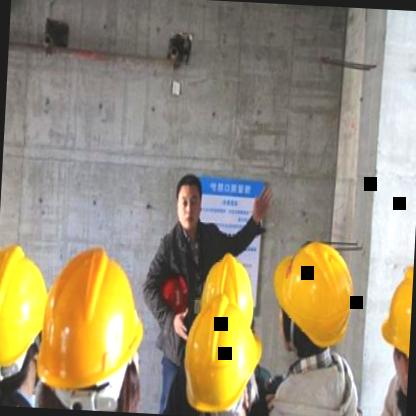helmet: (33, 242, 153, 413), (177, 296, 264, 412), (271, 240, 357, 351), (0, 239, 54, 391), (196, 253, 259, 348), (374, 262, 414, 400)
